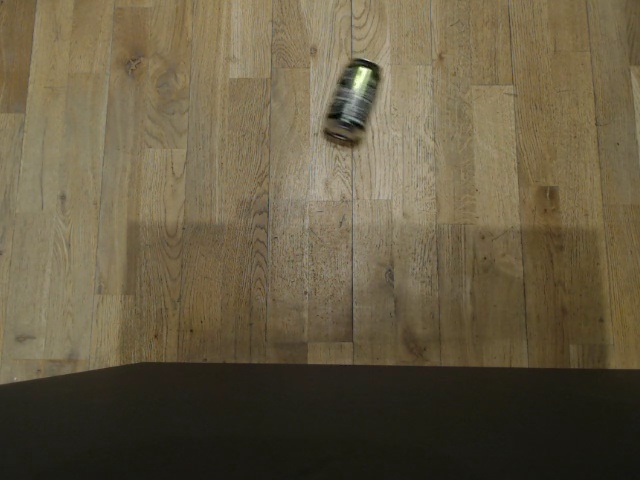beer: (319, 57, 381, 147)
